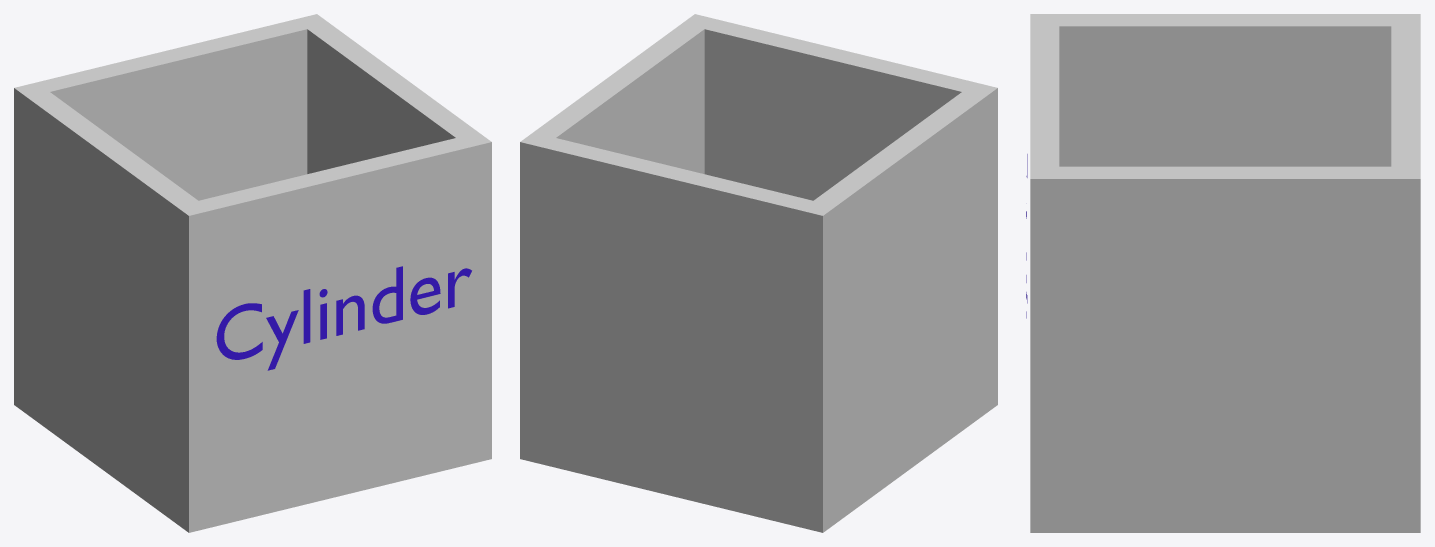
The picture shows the model from 3 angles, left to right: view 1: azimuth 30°, elevation 25°; view 2: azimuth 150°, elevation 25°; view 3: azimuth 270°, elevation 25°; orthographic projection. The views are drawn at different scales.
Parts seen in each view (by area): view 1: Text; view 2: Text; view 3: Text.
Boxes of the visible parts, x1,y1,x2,y2 form: Text: (14,14,491,532); Text: (520,14,997,532); Text: (1026,14,1420,532).
Bounding box in the file's own units: 200 × 200 × 202.
